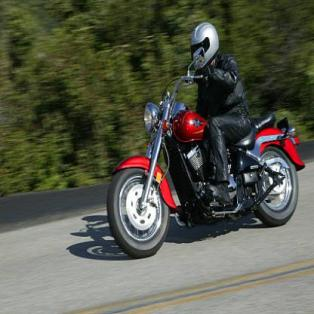Motocicleta: (104, 76, 304, 254)
